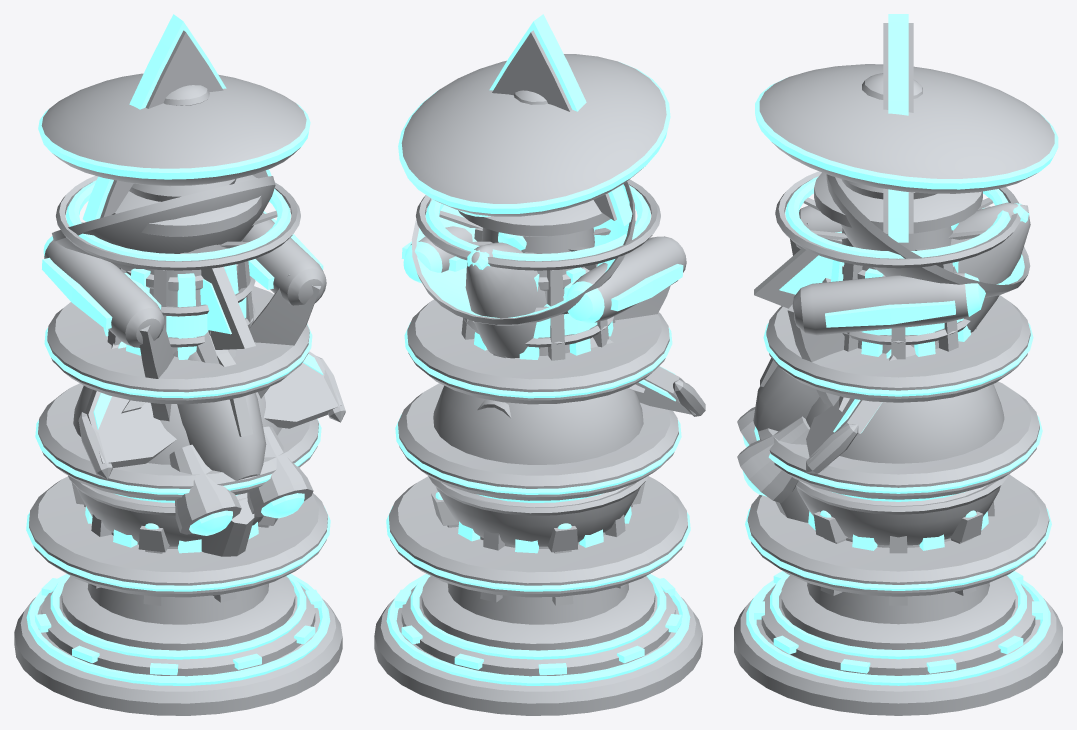
Rendered from federation.glb.
3 renders of one model, left to right at view 1: azimuth 30°, elevation 25°; view 2: azimuth 150°, elevation 25°; view 3: azimuth 270°, elevation 25°, orthographic.
Parts seen in each view (by area): view 1: king, rook, queen, knight, bishop, pawn; view 2: king, rook, queen, pawn, knight, bishop; view 3: king, rook, queen, pawn, knight, bishop.
Part boxes in pixels (<box>): king: <box>14,14,342,715</box>; rook: <box>26,264,330,597</box>; queen: <box>38,73,326,421</box>; knight: <box>78,267,345,595</box>; bishop: <box>52,176,275,270</box>; pawn: <box>68,352,281,552</box>; king: <box>374,14,702,715</box>; rook: <box>386,267,690,597</box>; queen: <box>398,54,686,323</box>; pawn: <box>428,385,648,552</box>; knight: <box>465,232,705,416</box>; bishop: <box>411,182,635,325</box>; king: <box>734,14,1062,715</box>; rook: <box>745,265,1051,596</box>; queen: <box>755,64,1058,406</box>; pawn: <box>760,358,1010,545</box>; knight: <box>737,202,1030,522</box>; bishop: <box>826,174,1030,297</box>.
Bounding box in the file's own units: 0.7098 × 1.5 × 0.7068.
